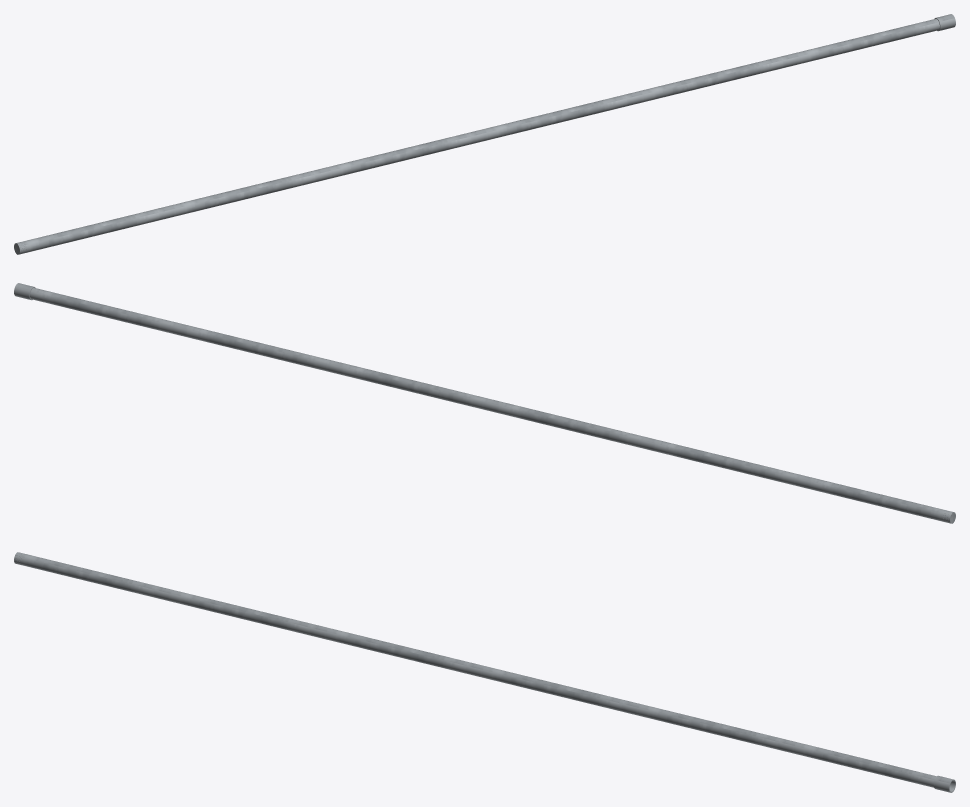
The model's file is ELE-ELD-004_lod1.glb.
3 views of the same model, one above another, from view 1: azimuth 30°, elevation 25°; view 2: azimuth 150°, elevation 25°; view 3: azimuth 330°, elevation 25° (orthographic).
Parts seen in each view (by area): view 1: ELE-ELD-004_barra; view 2: ELE-ELD-004_barra; view 3: ELE-ELD-004_barra.
Boxes of the visible parts, x1,y1,x2,y2 form: ELE-ELD-004_barra: (14,18,939,254); ELE-ELD-004_barra: (30,287,955,523); ELE-ELD-004_barra: (14,552,936,787).
Size of the model in its own units: 3 by 0.038 by 0.038.
1 material, 1 textured.
